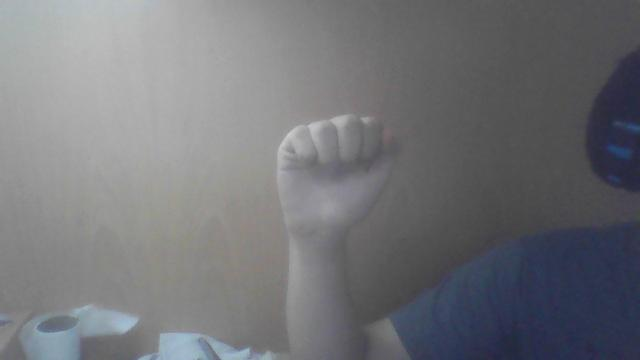forward: (275, 112, 399, 241)
